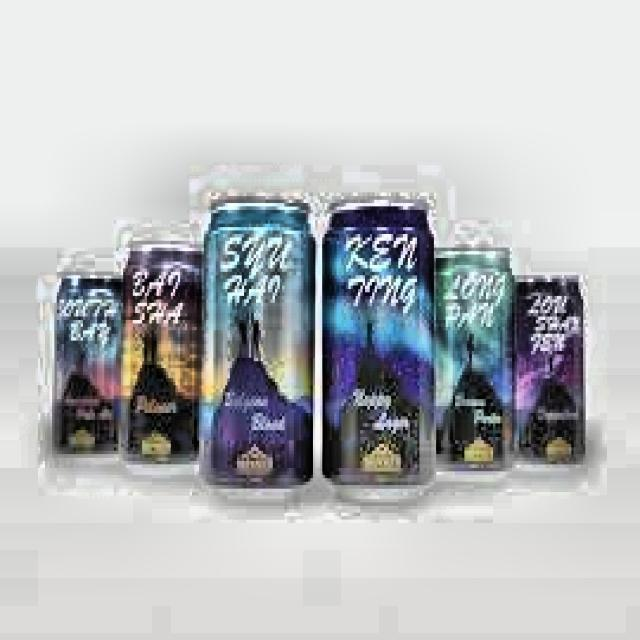can: (196, 188, 320, 498), (320, 188, 441, 500), (119, 231, 214, 479), (432, 237, 515, 476), (511, 270, 588, 474), (48, 263, 126, 462)
